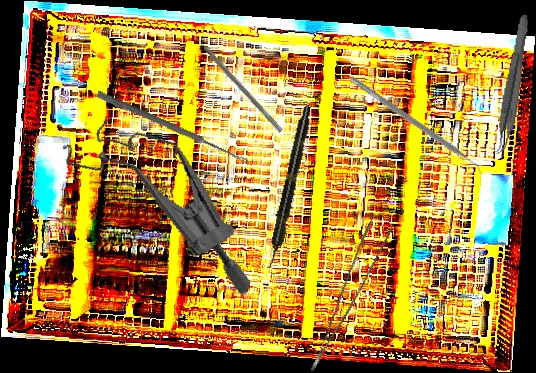Handpiece: (263, 104, 315, 271)
Spatula Surgical: (345, 75, 488, 178), (190, 30, 288, 133)
Speculum: (36, 105, 285, 300)
Surgical Spoon: (95, 90, 251, 166)
Tissue Forceps: (286, 215, 401, 372), (492, 13, 531, 156)
